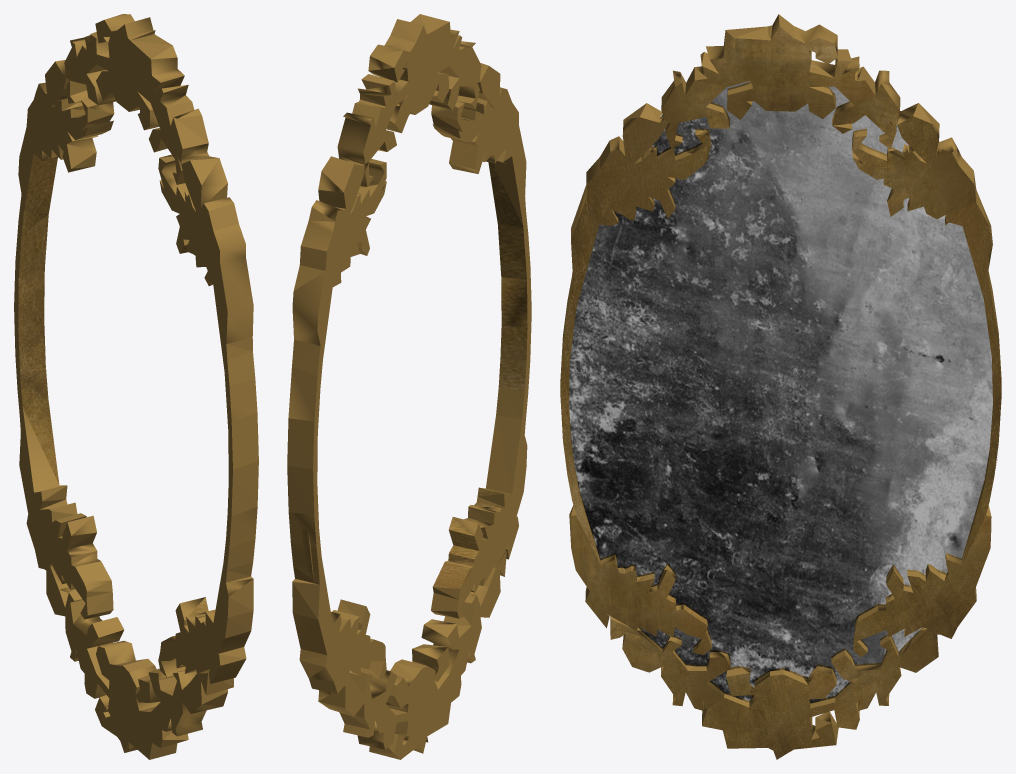
The model's file is mirrorDirty-texture.glb.
3 views of the same model, side by side, from view 1: azimuth 30°, elevation 25°; view 2: azimuth 150°, elevation 25°; view 3: azimuth 270°, elevation 25° (orthographic).
Parts seen in each view (by area): view 1: Cylinder; view 2: Cylinder; view 3: Mirror, MirrorDirty, Cylinder.
Boxes of the visible parts, x1,y1,x2,y2 form: Cylinder: (14,14,258,759); Cylinder: (287,14,531,759); Mirror: (569,65,992,700); MirrorDirty: (569,81,992,703); Cylinder: (560,14,1001,759).
Size of the model in its own units: 0.0606 by 1.63 by 0.8874.
3 materials, 2 textured.
